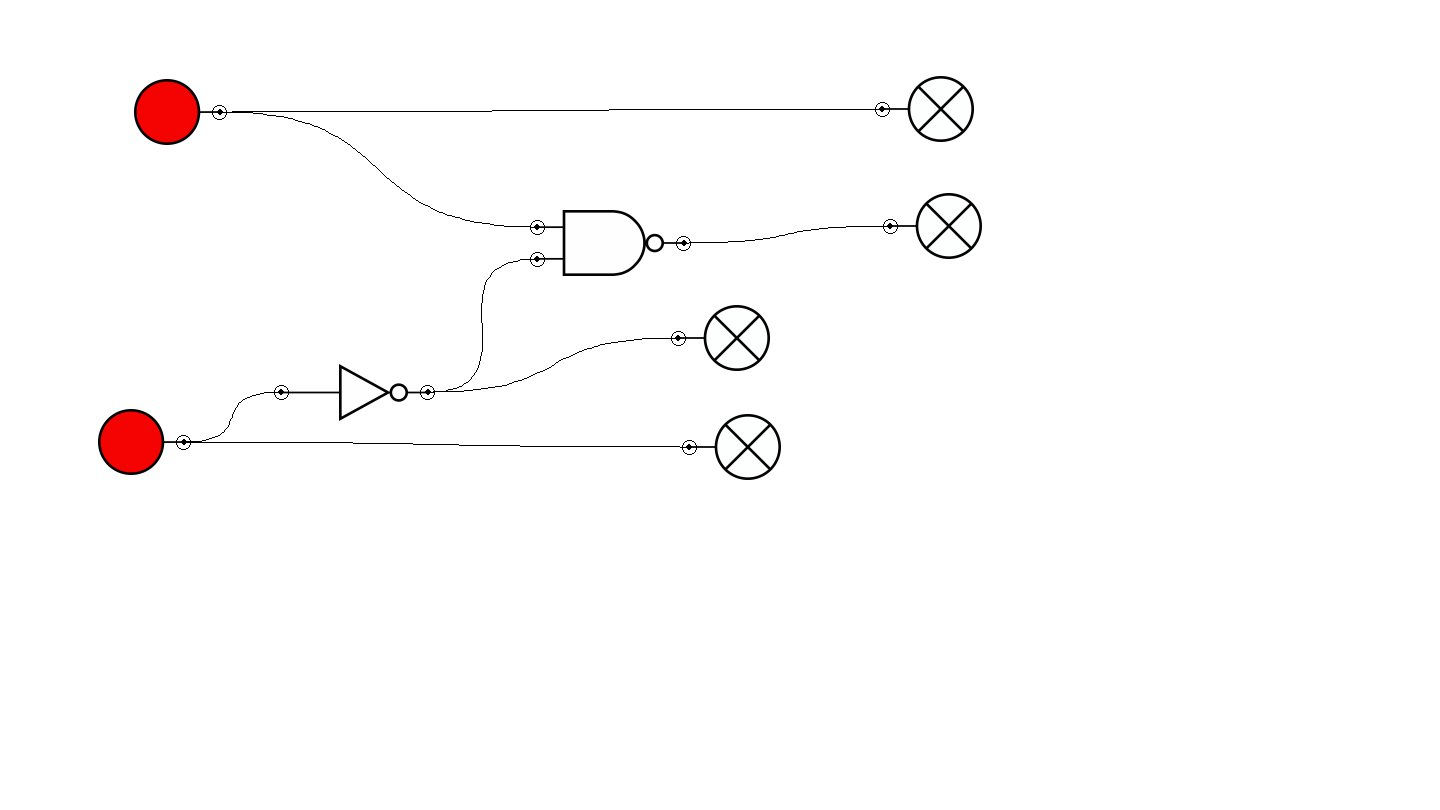bulb: (883, 193, 982, 259), (671, 305, 770, 371), (682, 414, 781, 480), (875, 76, 974, 142)
nand: (530, 210, 691, 276)
not: (274, 364, 435, 421)
switch_False: (134, 79, 227, 145), (98, 409, 191, 475)
